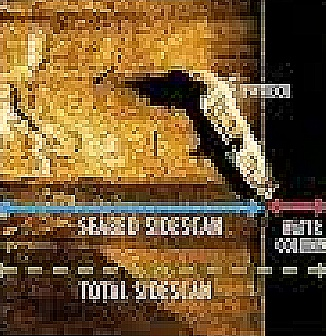ship: (186, 69, 279, 200)
